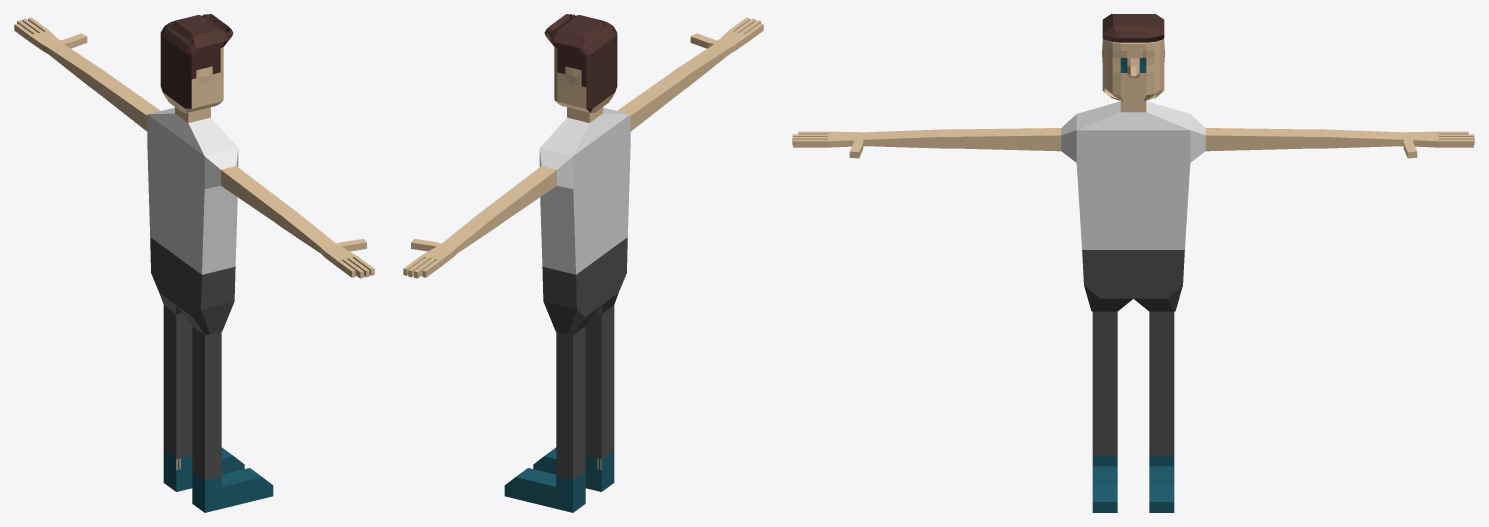
The model's file is BoyModelOne.fbx.
3 views of the same model, side by side, from view 1: azimuth 30°, elevation 25°; view 2: azimuth 150°, elevation 25°; view 3: azimuth 270°, elevation 25° (orthographic).
Parts seen in each view (by area): view 1: Plane, Plane.001; view 2: Plane, Plane.001; view 3: Plane, Plane.001.
Part boxes in pixels (x1,y1,x2,y2): Plane: (14, 17, 374, 512); Plane.001: (160, 14, 233, 112); Plane: (403, 17, 763, 512); Plane.001: (544, 14, 617, 112); Plane: (792, 40, 1474, 512); Plane.001: (1101, 14, 1165, 100).
Bounding box in the file's own units: 168 × 957 × 1269.
